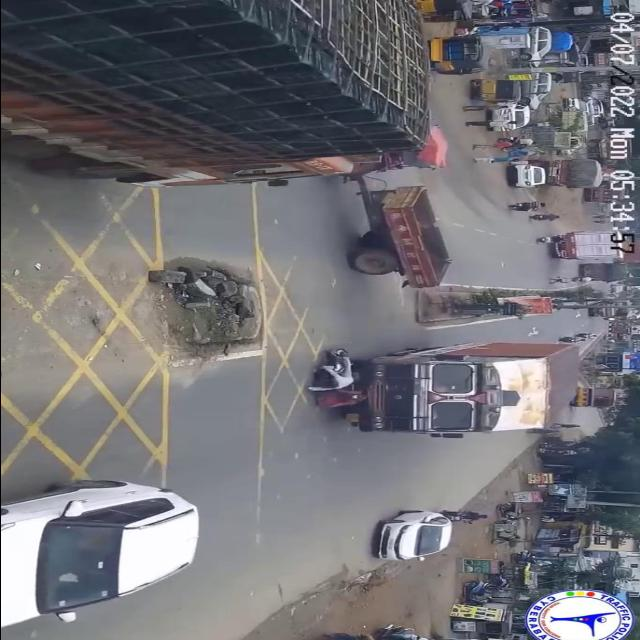accident: (303, 337, 589, 440)
non_accident: (0, 0, 456, 300), (460, 68, 560, 136), (487, 150, 605, 198)
